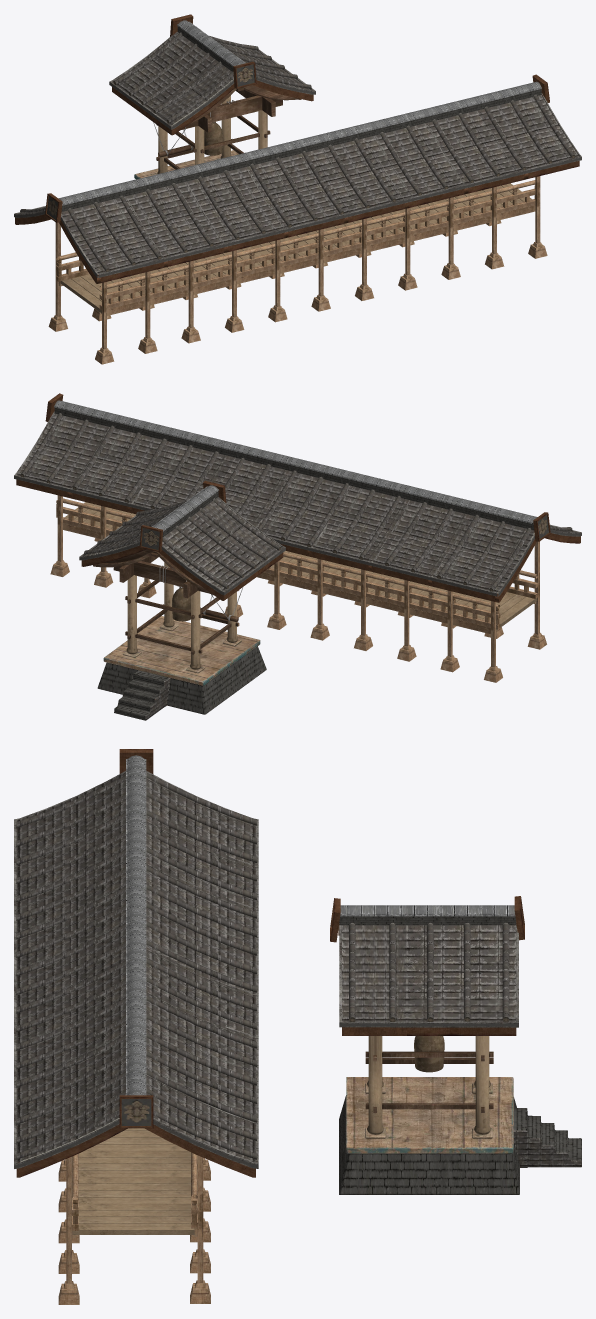
Rendered from japanese_temple_1.glb.
3 renders of one model, top to bottom at view 1: azimuth 30°, elevation 25°; view 2: azimuth 150°, elevation 25°; view 3: azimuth 270°, elevation 25°, orthographic. The views are drawn at different scales.
Visible parts, largest first — view 1: skk_Material.011_0, object 2, object 3, wood.001_wood.001_0, wood.002_wood 2_0, Kolocol_Kolokol.001_0, wood.003_wood 3_0; view 2: skk_Material.011_0, object 2, stone.001_Stone.001_0, wood.001_wood.001_0, object 3, wood.002_wood 2_0, Kolocol_Kolokol.001_0; view 3: skk_Material.011_0, object 3, stone.001_Stone.001_0, object 2, wood.002_wood 2_0, wood.001_wood.001_0, Kolocol_Kolokol.001_0.
Part boxes in pixels (x1,y1,x2,y2): skk_Material.011_0: [14, 14, 581, 283]; object 2: [48, 176, 547, 364]; object 3: [60, 183, 531, 313]; wood.001_wood.001_0: [156, 87, 301, 169]; wood.002_wood 2_0: [157, 95, 267, 173]; Kolocol_Kolokol.001_0: [153, 100, 235, 156]; wood.003_wood 3_0: [188, 85, 297, 124]; skk_Material.011_0: [14, 393, 581, 720]; object 2: [50, 495, 546, 682]; stone.001_Stone.001_0: [103, 616, 260, 685]; wood.001_wood.001_0: [93, 551, 239, 654]; object 3: [64, 502, 537, 630]; wood.002_wood 2_0: [126, 562, 237, 669]; Kolocol_Kolokol.001_0: [159, 565, 242, 621]; skk_Material.011_0: [14, 749, 581, 1194]; object 3: [72, 1128, 194, 1234]; stone.001_Stone.001_0: [346, 1077, 526, 1153]; object 2: [58, 1152, 210, 1304]; wood.002_wood 2_0: [367, 1036, 490, 1134]; wood.001_wood.001_0: [365, 1051, 493, 1112]; Kolocol_Kolokol.001_0: [414, 1036, 444, 1072].
Bounding box in the file's own units: 68.07 × 22.92 × 46.48.
Materials: 8 (8 with a texture image).
